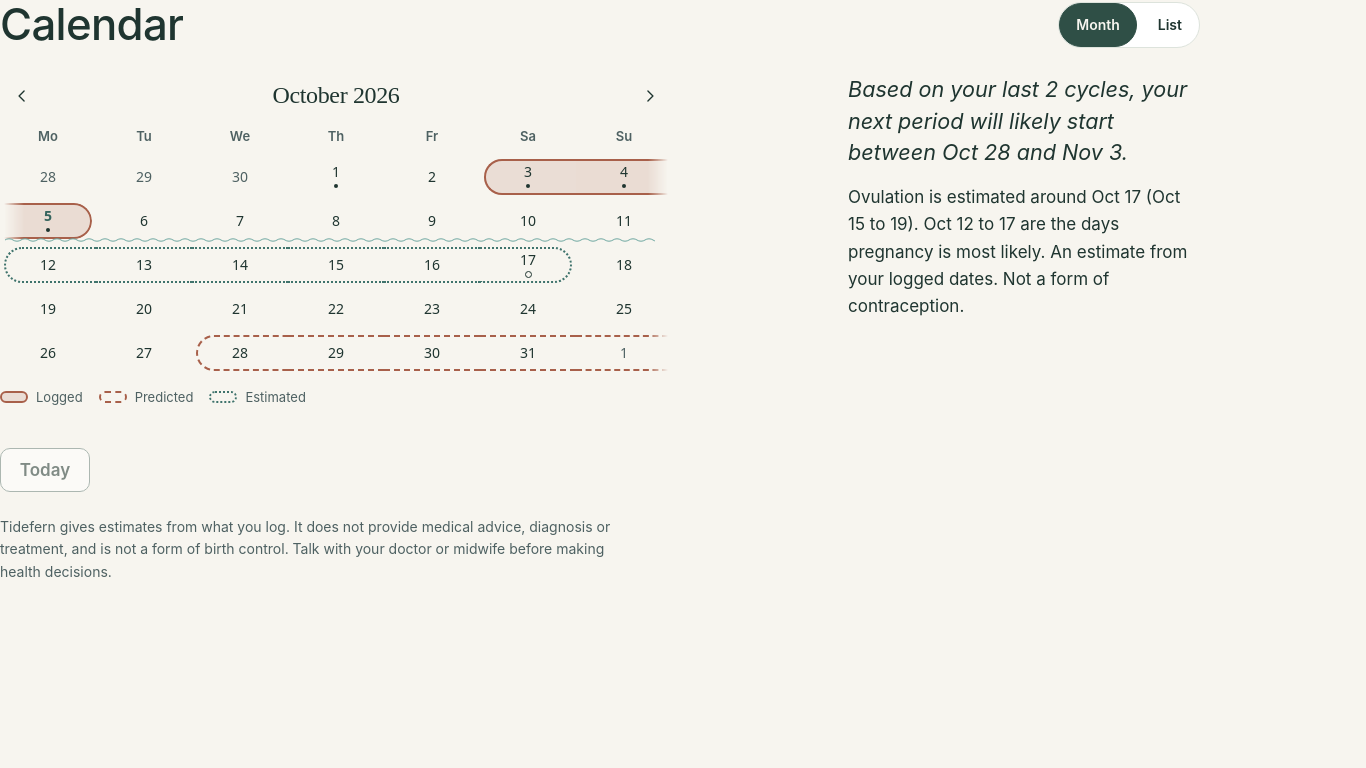
Test: the month view › opens the day's sheet over the calendar, loading that day by date only
The width and height of the screenshot is (1366, 768).
Click the button named "Sunday, October 4, 2026". click: (624, 177)
box: [576,155,672,199]
(page scrolled)
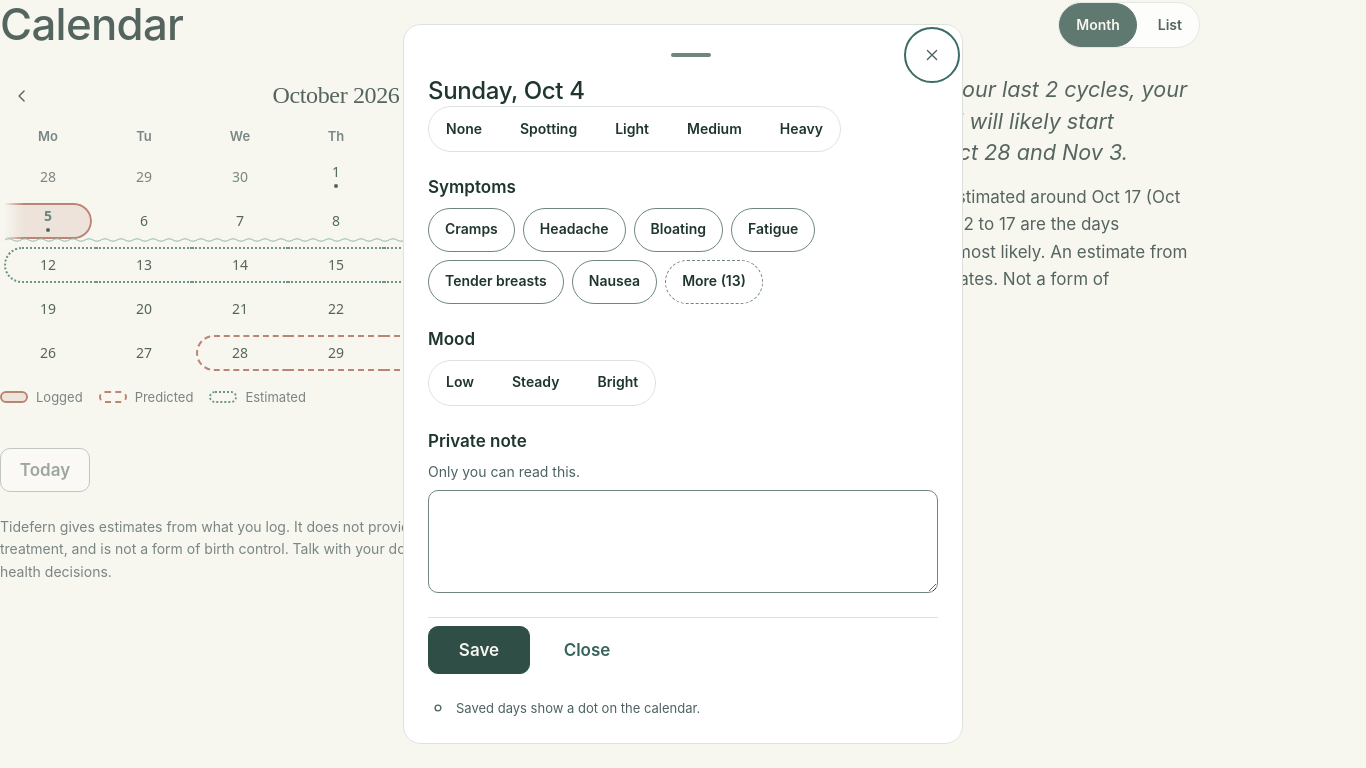
Expected: the button "Save" is shown, [428,626,530,674]
